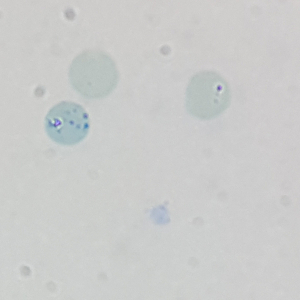erythrocyte: (183, 70, 233, 123)
punctate reticulocyte: (67, 48, 121, 100), (43, 100, 91, 147)
